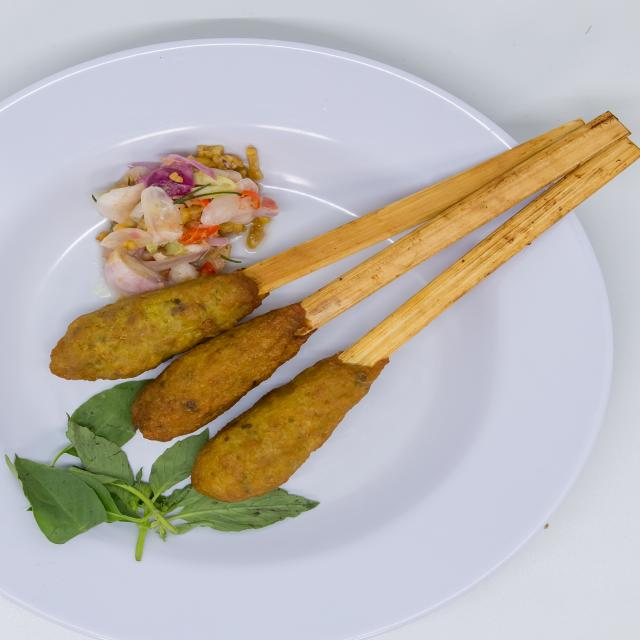Sate-Lilit: (38, 94, 596, 506)
